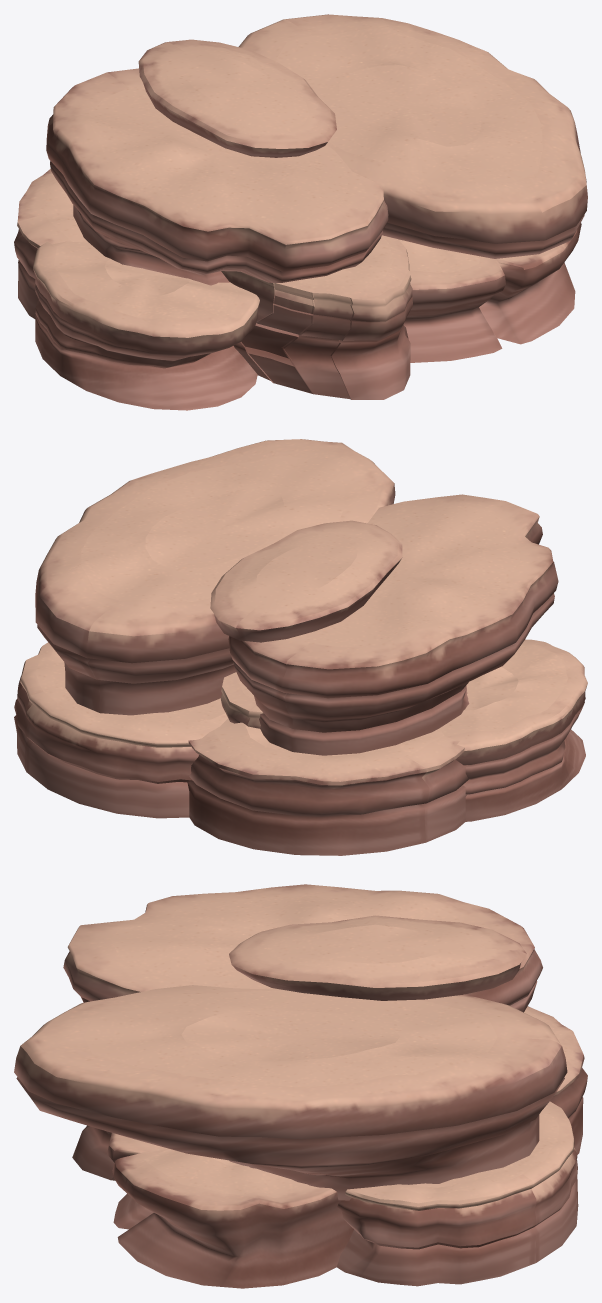
The model's file is Desert_Cliff.fbx.
3 renders of one model, top to bottom at view 1: azimuth 30°, elevation 25°; view 2: azimuth 150°, elevation 25°; view 3: azimuth 270°, elevation 25°, orthographic. The views are drawn at different scales.
Parts seen in each view (by area): view 1: Cliff; view 2: Cliff; view 3: Cliff.
Boxes of the visible parts, x1,y1,x2,y2 form: Cliff: (14, 14, 587, 410); Cliff: (14, 439, 587, 855); Cliff: (14, 884, 587, 1288).
Bounding box in the file's own units: 50.7 × 20.66 × 49.96.
